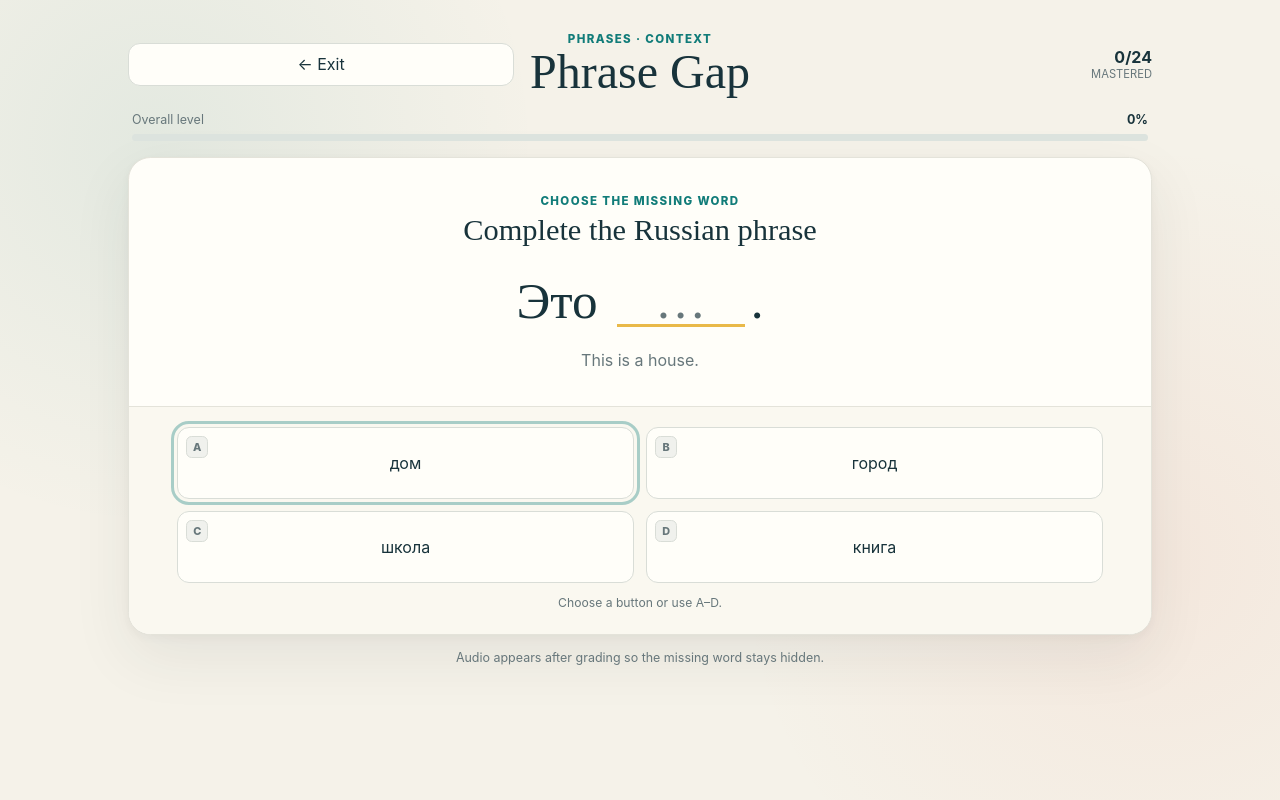
Test: PhraseGapGame › marks an incorrect choice and persists the miss immediately
Click the button "D книга" at [874, 547], box [646,511,1103,583]
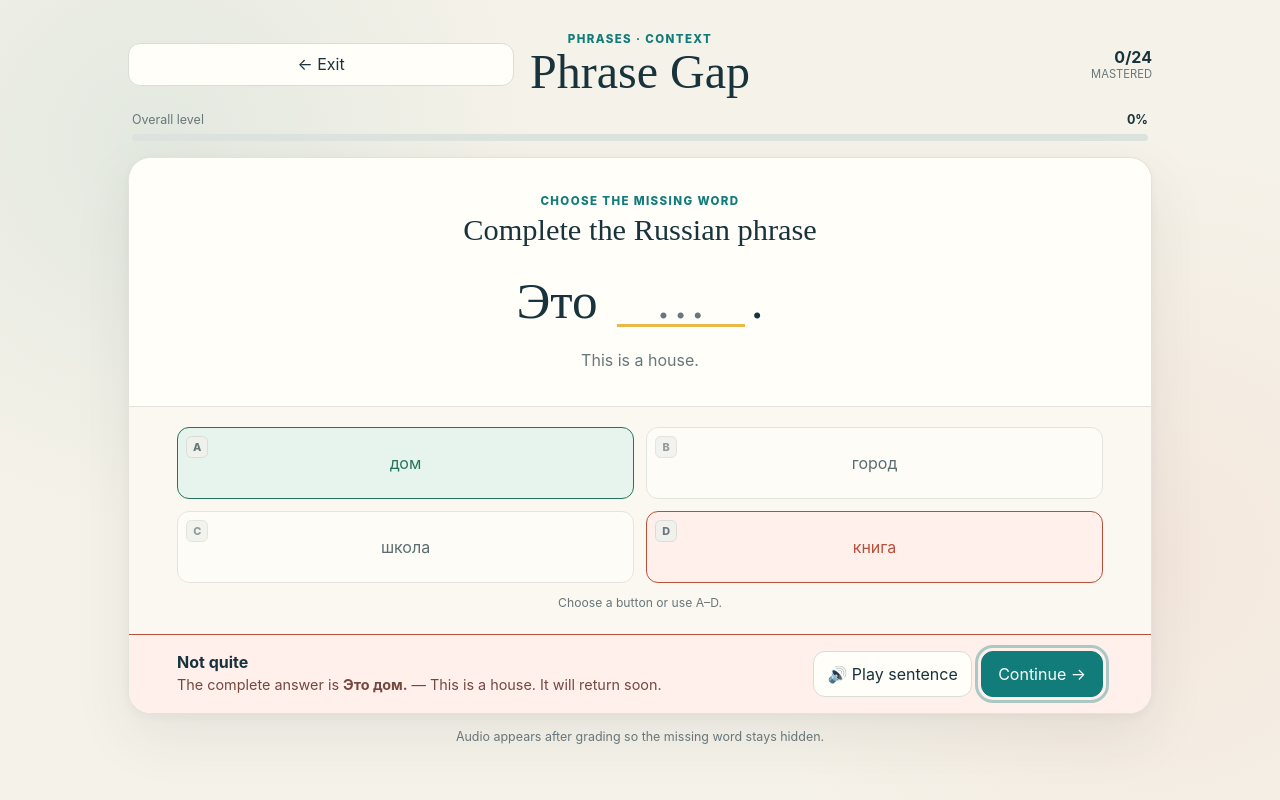
Expected: the message shows "The complete answer is Это дом.", [129,634,1151,713]
Expected: the message shows "It will return soon.", [536,676,662,694]
